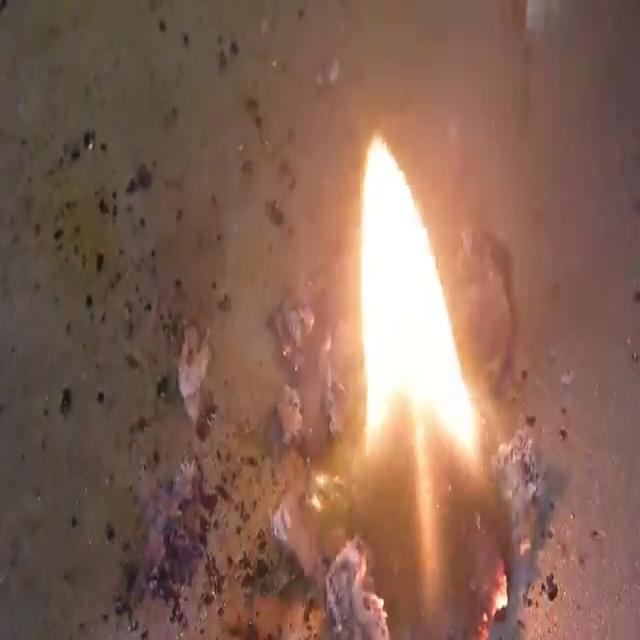Fire: (4, 4, 637, 636), (354, 130, 482, 466)
